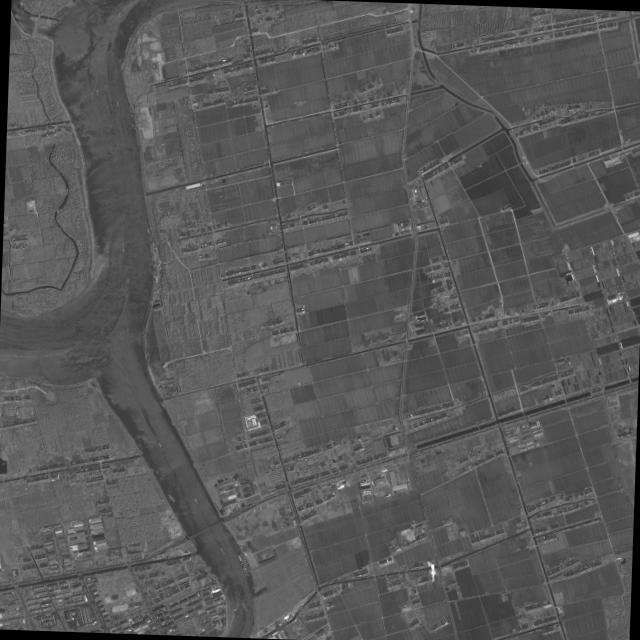ship: (167, 493, 176, 502), (156, 439, 163, 449), (241, 601, 248, 611), (107, 40, 112, 53), (72, 340, 80, 347), (219, 547, 225, 555), (121, 213, 125, 224), (193, 498, 199, 505), (220, 580, 225, 587), (175, 510, 180, 517), (103, 84, 107, 92), (116, 101, 120, 109), (146, 226, 150, 234), (90, 89, 93, 98), (125, 293, 128, 301), (121, 243, 124, 251), (109, 229, 112, 237), (238, 554, 244, 558), (239, 557, 245, 561), (95, 90, 98, 97), (236, 553, 242, 556), (127, 185, 130, 191), (127, 277, 129, 286), (238, 556, 244, 559), (244, 567, 250, 569)
